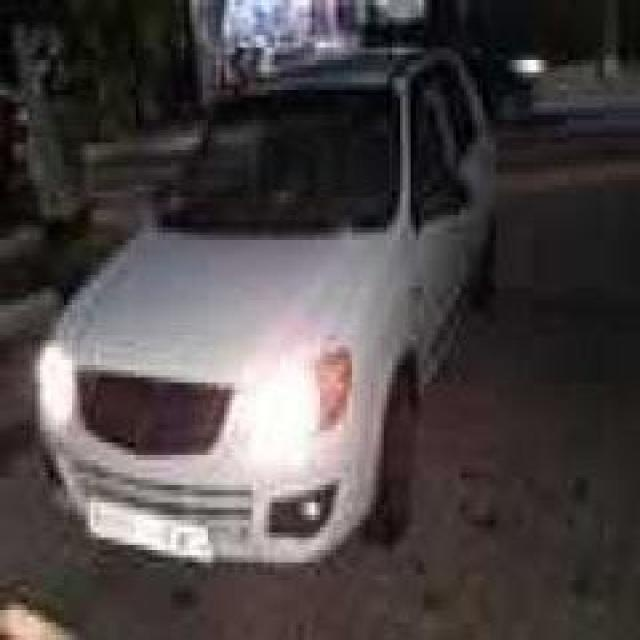car: (7, 32, 537, 588)
